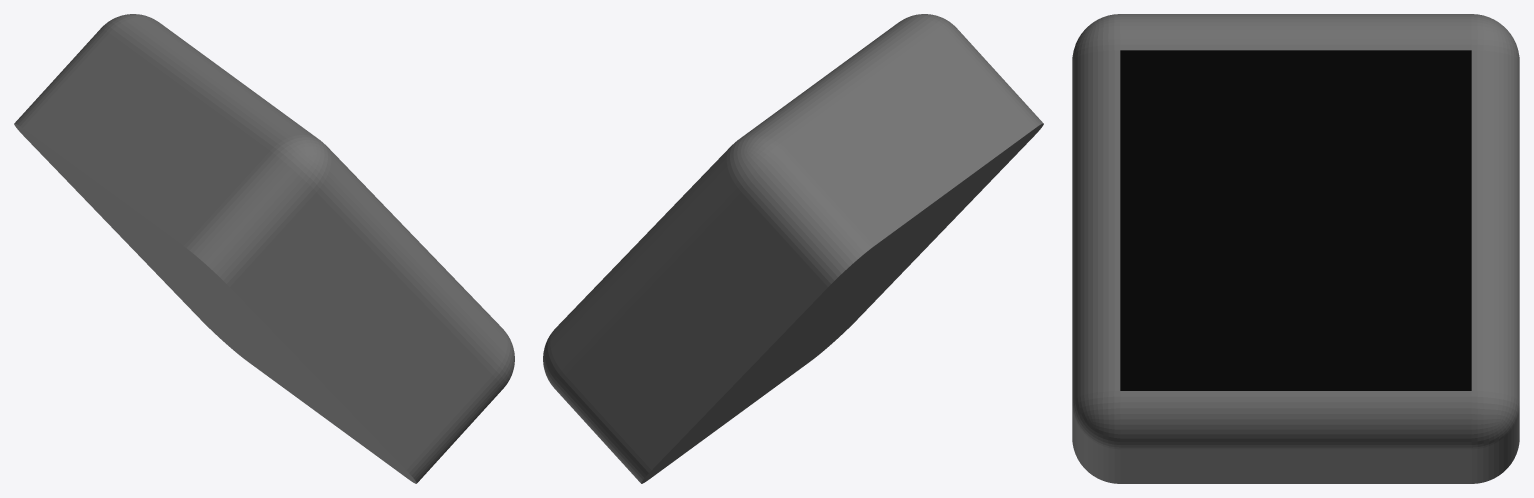
The model's file is Mimi box.gltf.
The picture shows the model from 3 angles, left to right: view 1: azimuth 30°, elevation 25°; view 2: azimuth 150°, elevation 25°; view 3: azimuth 270°, elevation 25°; orthographic projection. The views are drawn at different scales.
Visible parts, largest first — view 1: Cube.003; view 2: Cube.003; view 3: Cube.003.
Boxes of the visible parts, x1,y1,x2,y2 form: Cube.003: (14,14,514,483); Cube.003: (543,14,1043,483); Cube.003: (1072,14,1519,483).
Bounding box in the file's own units: 0.0577 × 0.0628 × 0.063.
2 materials, 1 textured.
